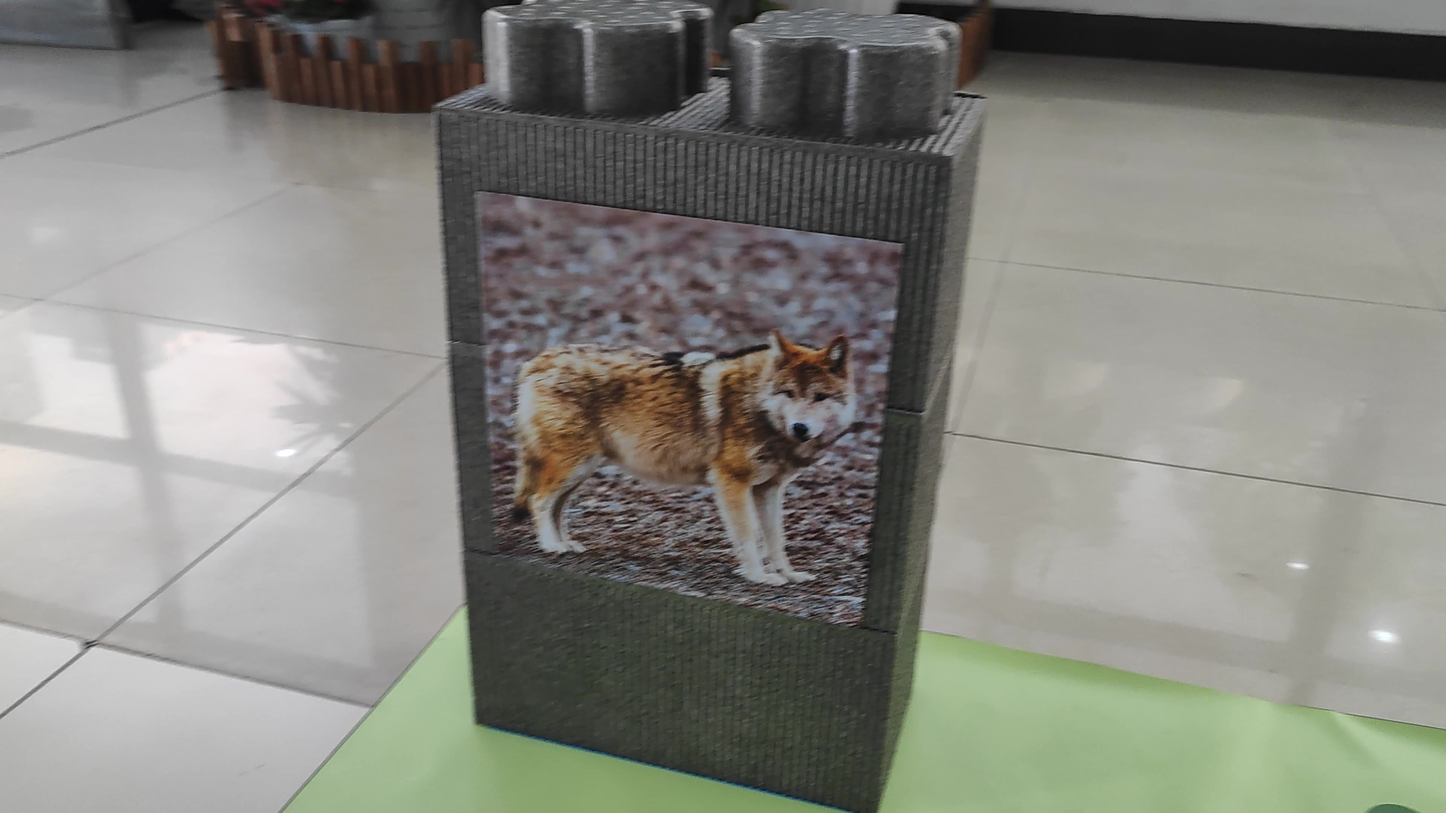wolf: (486, 275, 883, 626)
